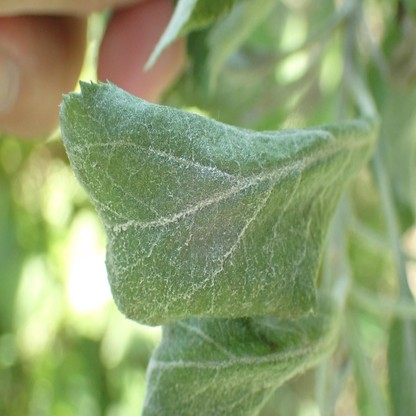powdery_mildew: (60, 80, 335, 325), (140, 289, 335, 416)
